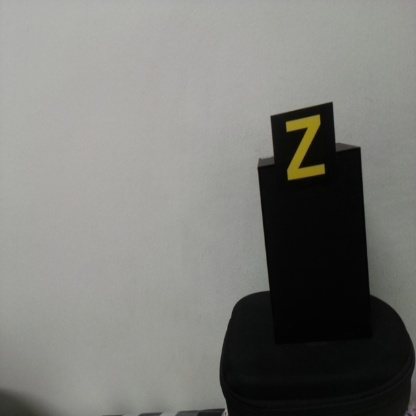id_15: (271, 114, 338, 189)
